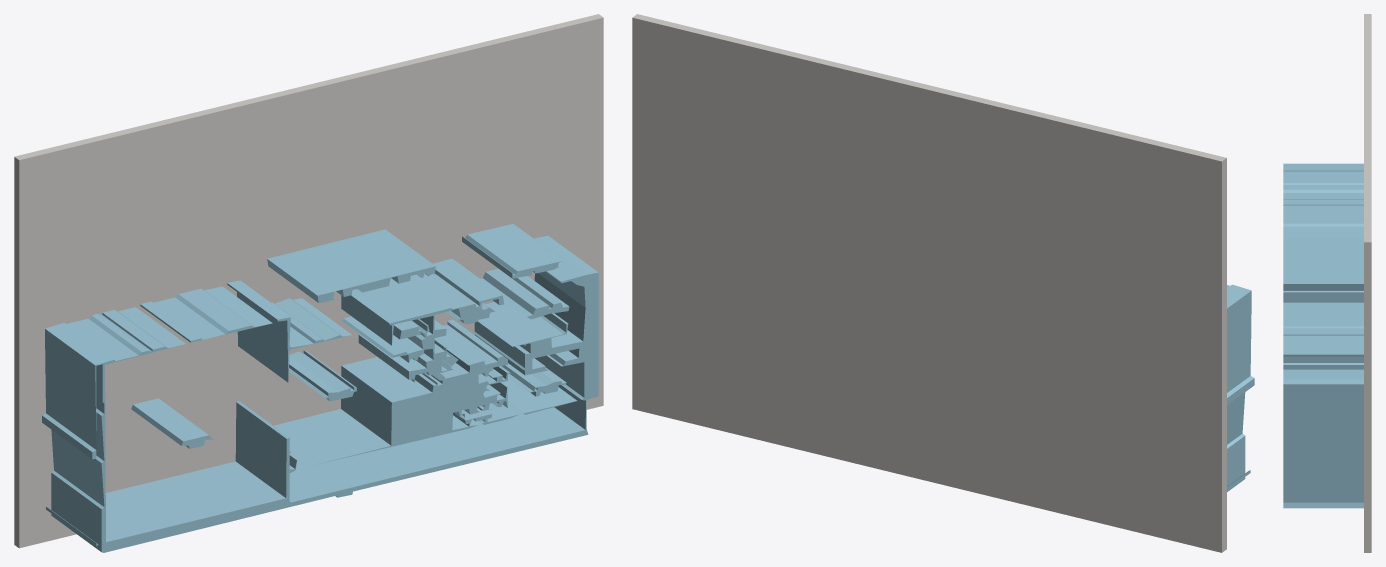
3 views of the same model, side by side, from view 1: azimuth 30°, elevation 25°; view 2: azimuth 150°, elevation 25°; view 3: azimuth 270°, elevation 25° (orthographic). The views are drawn at different scales.
Parts seen in each view (by area): view 1: world; view 2: world; view 3: world.
Part boxes in pixels (x1,y1,x2,y2): world: (14,14,603,552); world: (632,14,1254,552); world: (1283,14,1371,552).
Size of the model in its own units: 10.23 by 6.49 by 1.68.
